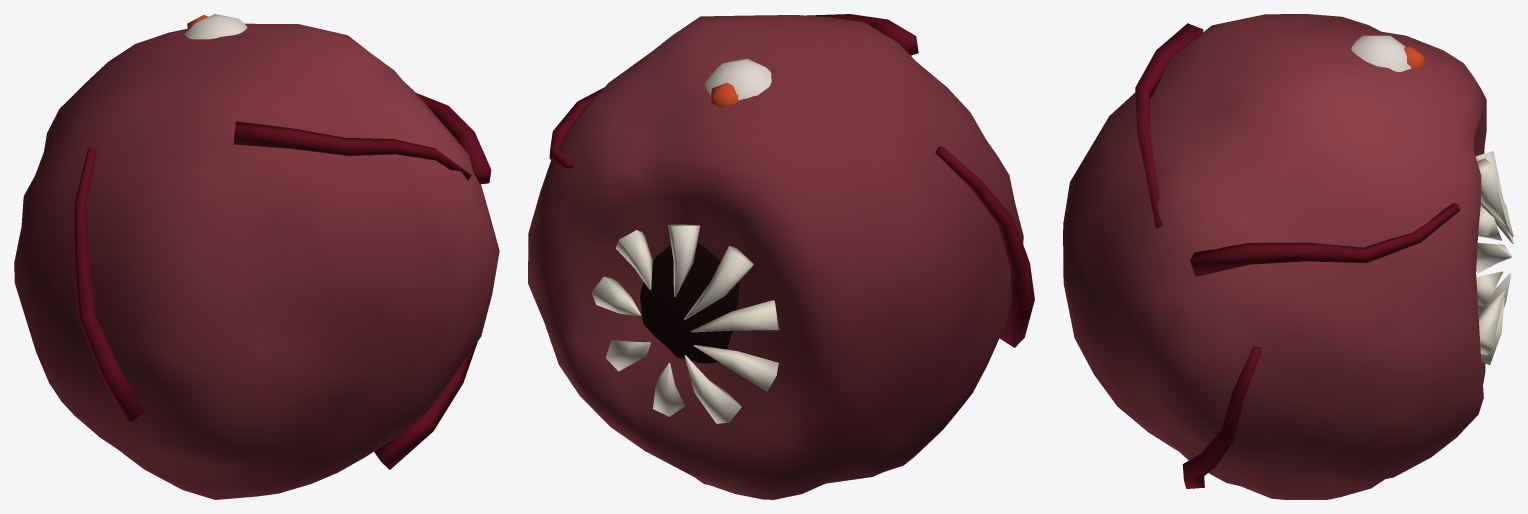
Rendered from the_hungry.glb.
3 renders of one model, left to right at view 1: azimuth 30°, elevation 25°; view 2: azimuth 150°, elevation 25°; view 3: azimuth 270°, elevation 25°, orthographic. The views are drawn at different scales.
Visible parts, largest first — view 1: the_hungry; view 2: the_hungry; view 3: the_hungry.
Part boxes in pixels (bbox=[...]): the_hungry: bbox=[14, 14, 499, 499]; the_hungry: bbox=[528, 14, 1034, 499]; the_hungry: bbox=[1063, 14, 1513, 499].
Bounding box in the file's own units: 1.12 × 1.11 × 1.03.
